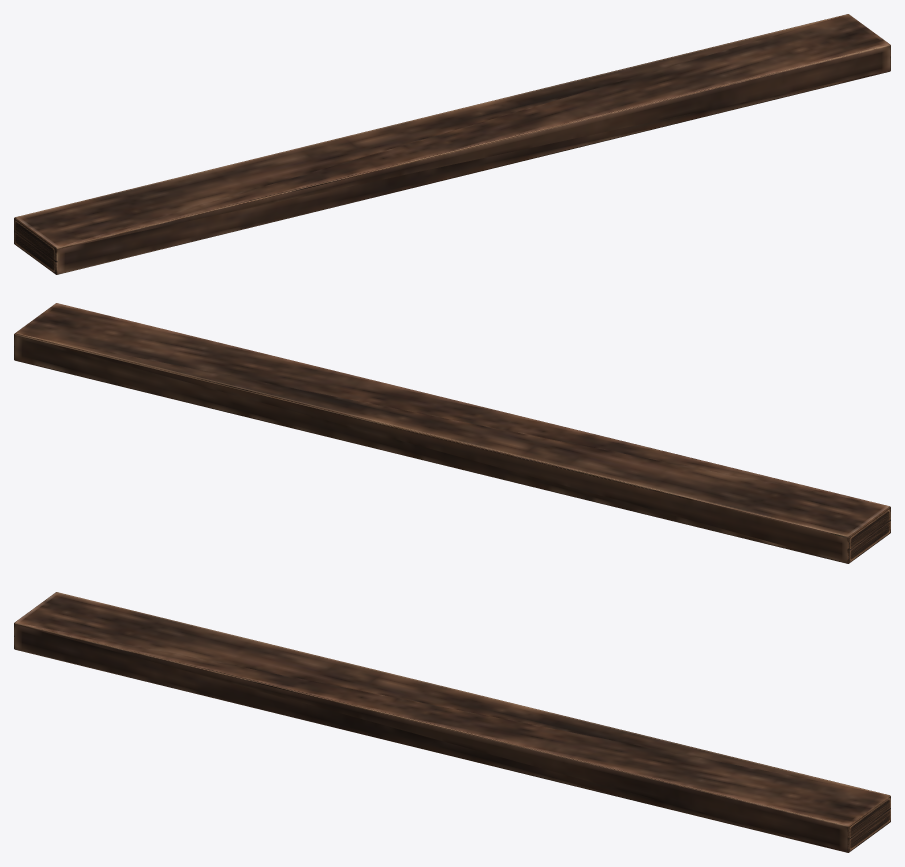
File: cleaned.glb
3 renders of one model, top to bottom at view 1: azimuth 30°, elevation 25°; view 2: azimuth 150°, elevation 25°; view 3: azimuth 330°, elevation 25°, orthographic.
Parts seen in each view (by area): view 1: M7 floor-a-m7; view 2: M7 floor-a-m7; view 3: M7 floor-a-m7.
Part boxes in pixels (<box>): M7 floor-a-m7: <box>14,14,890,274</box>; M7 floor-a-m7: <box>14,303,890,563</box>; M7 floor-a-m7: <box>14,592,890,852</box>.
Bounding box in the file's own units: 0.898 × 0.028 × 0.0795.
Materials: 1 (1 with a texture image).
